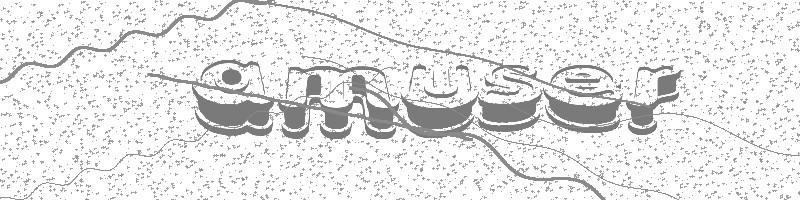a: (191, 59, 276, 138)
e: (542, 64, 624, 134)
m: (278, 65, 399, 141)
r: (623, 64, 681, 136)
s: (479, 63, 542, 134)
u: (401, 63, 478, 138)
